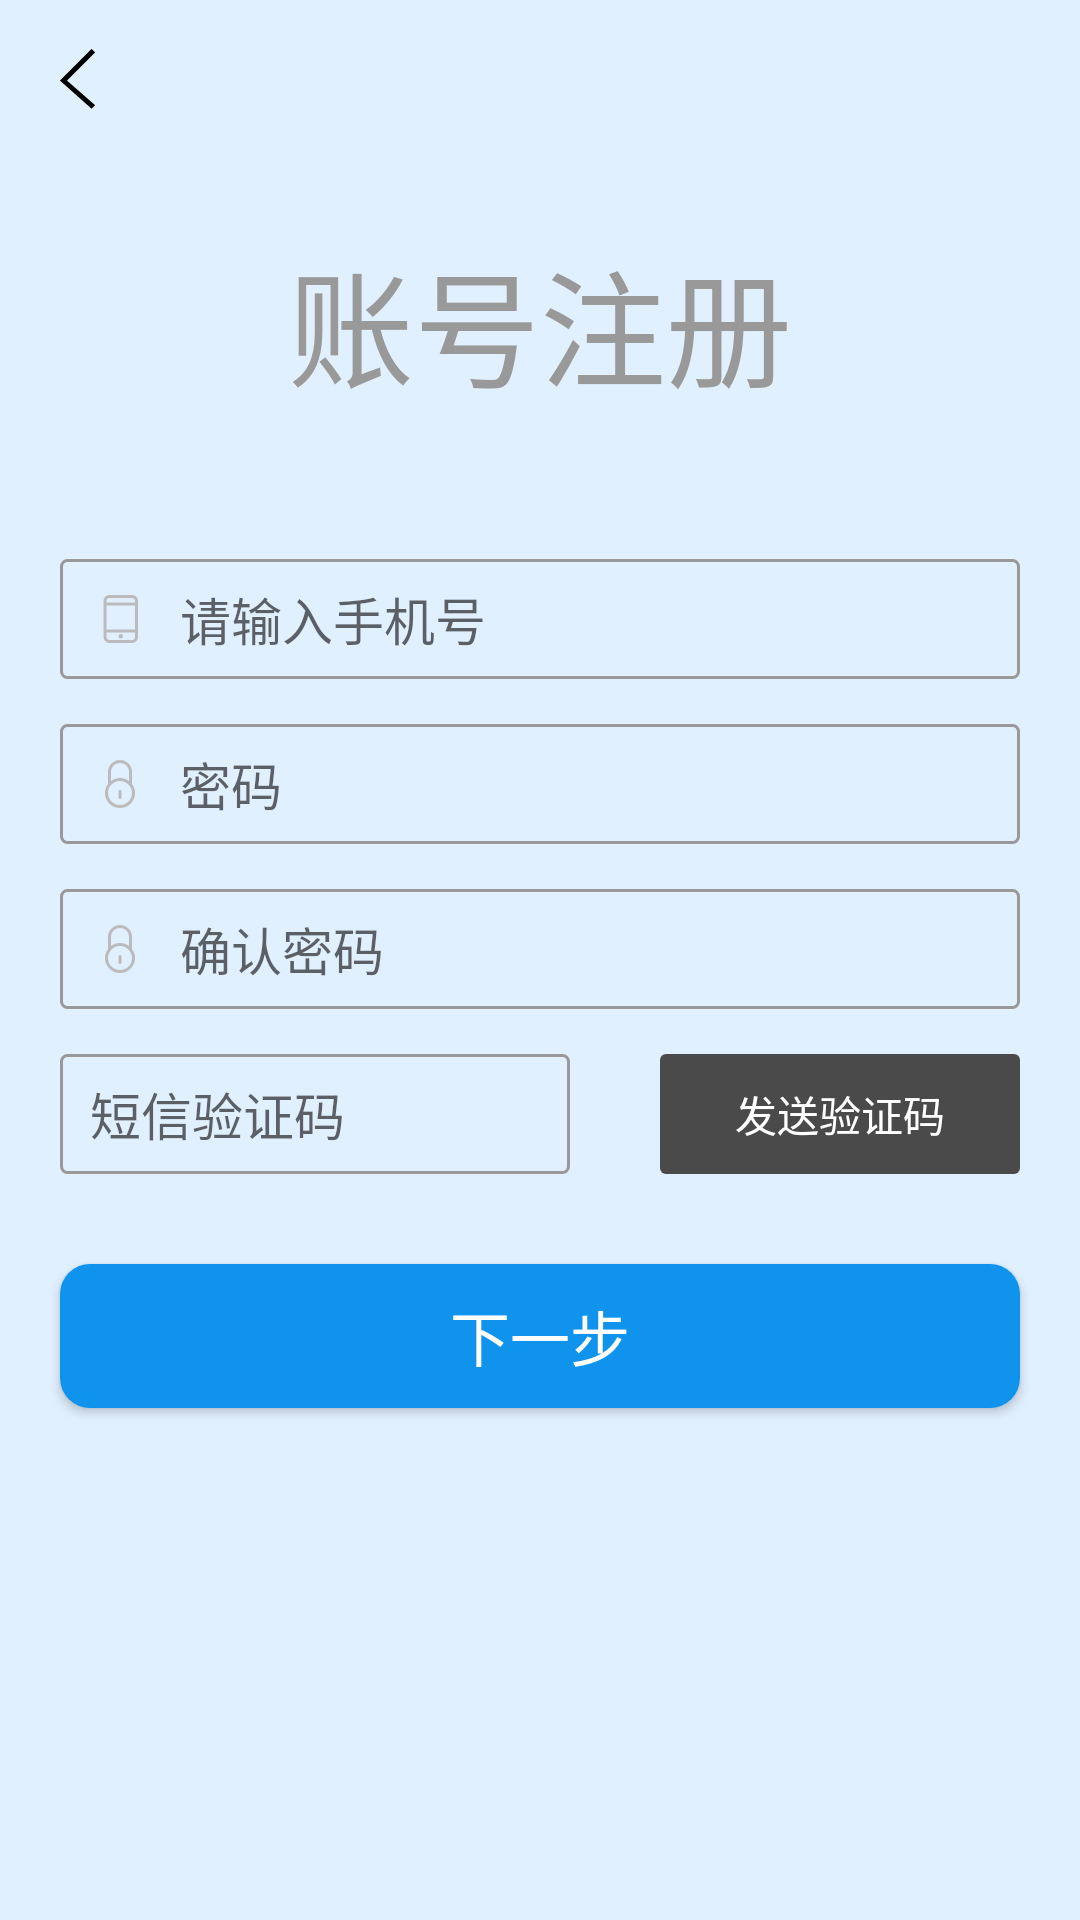

Icon click points for this 1080 x 1920 phone screenshot, format [x,y]:
fanhui: [77,79]
login password: [120,784], [120,949]
login phone: [120,619]
